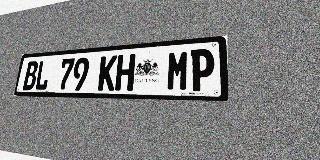7: (57, 58, 75, 90)
9: (71, 57, 90, 91)
B: (22, 61, 39, 90)
H: (115, 54, 136, 91)
K: (97, 55, 118, 91)
L: (34, 60, 51, 90)
M: (166, 50, 190, 91)
P: (189, 48, 214, 91)
